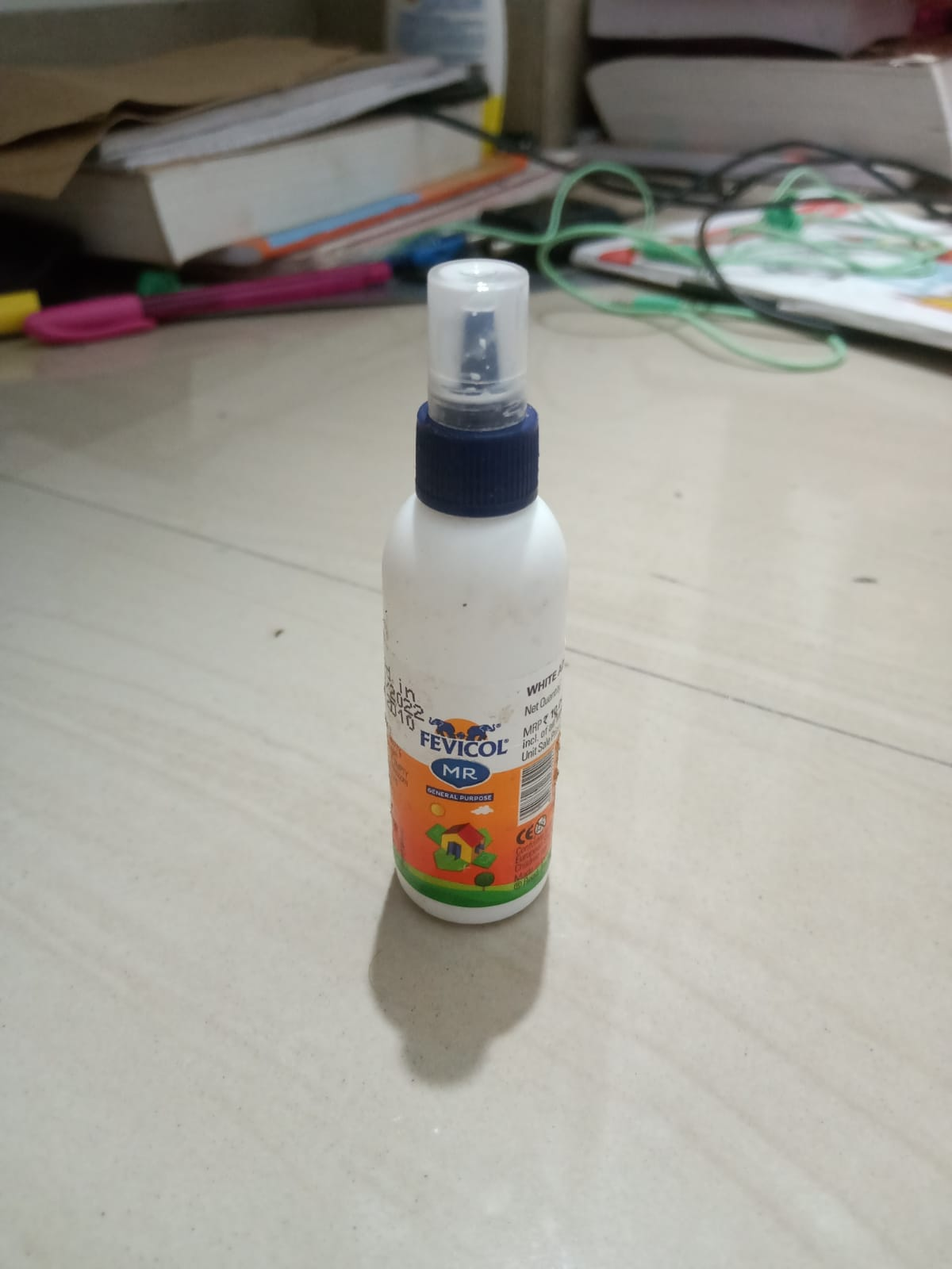plastic: (297, 273, 600, 963)
